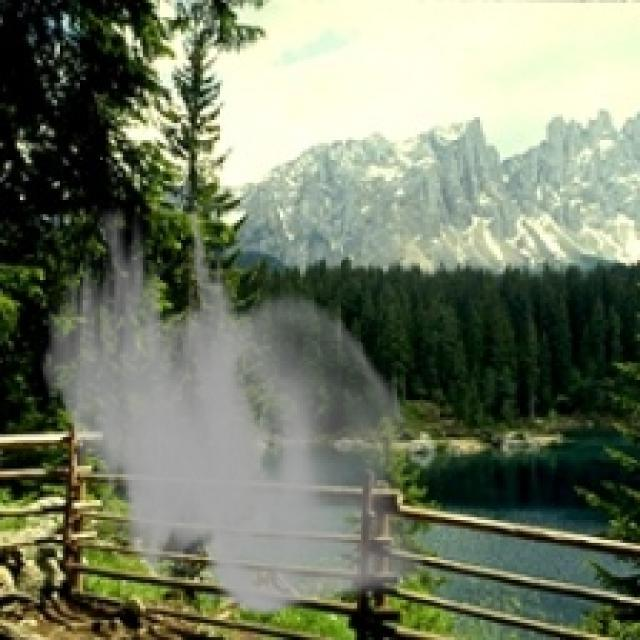Smoke: (37, 208, 426, 618)
